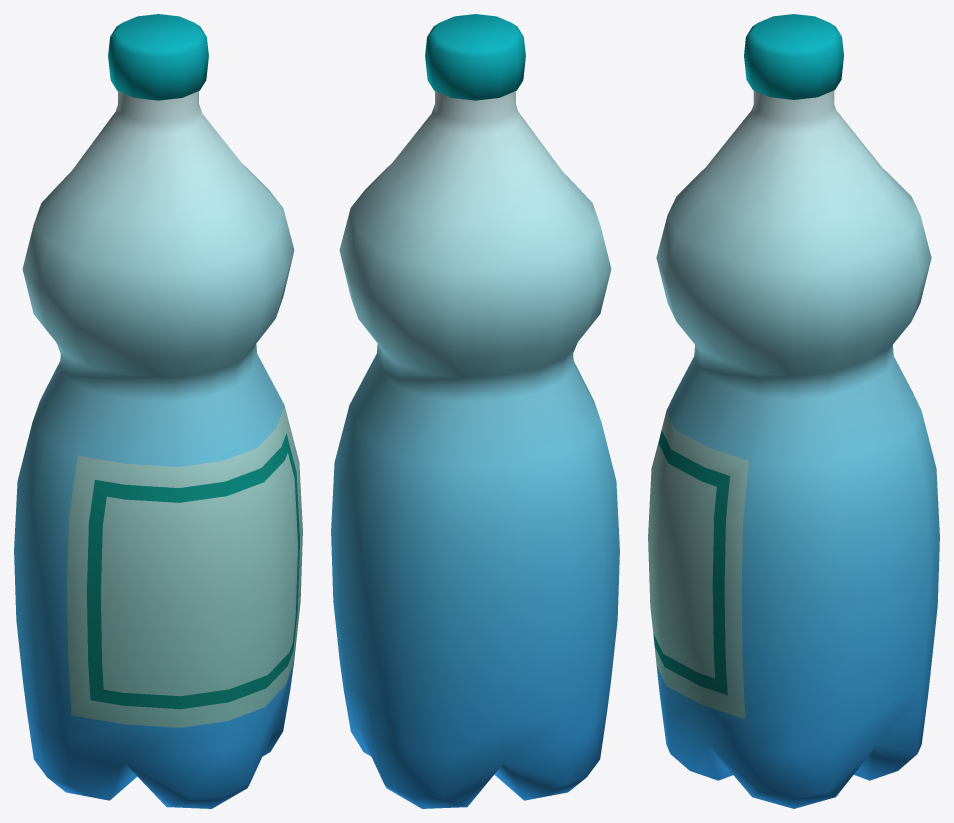
The model's file is bottle_008.fbx.
3 views of the same model, side by side, from view 1: azimuth 30°, elevation 25°; view 2: azimuth 150°, elevation 25°; view 3: azimuth 270°, elevation 25° (orthographic).
Parts seen in each view (by area): view 1: bottle_008; view 2: bottle_008; view 3: bottle_008.
Boxes of the visible parts, box(x1,y1,x2,y2) form: bottle_008: box(14, 14, 302, 808); bottle_008: box(331, 14, 619, 808); bottle_008: box(648, 14, 939, 808).
Size of the model in its own units: 9.22 by 9.22 by 25.88.
